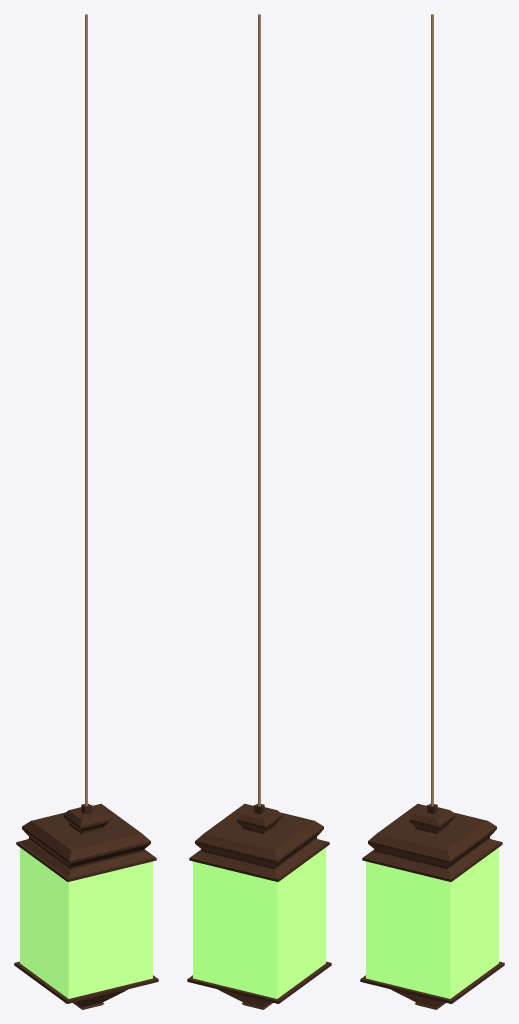
File: Luce 4 Verde .fbx
The picture shows the model from 3 angles, left to right: view 1: azimuth 30°, elevation 25°; view 2: azimuth 150°, elevation 25°; view 3: azimuth 330°, elevation 25°; orthographic projection.
Visible parts, largest first — view 1: Cube.040; view 2: Cube.040; view 3: Cube.040.
Part boxes in pixels (bbox=[...]): Cube.040: bbox=[14, 14, 158, 1009]; Cube.040: bbox=[187, 14, 331, 1009]; Cube.040: bbox=[360, 14, 504, 1009].
Bounding box in the file's own units: 23.54 × 244 × 23.54.
